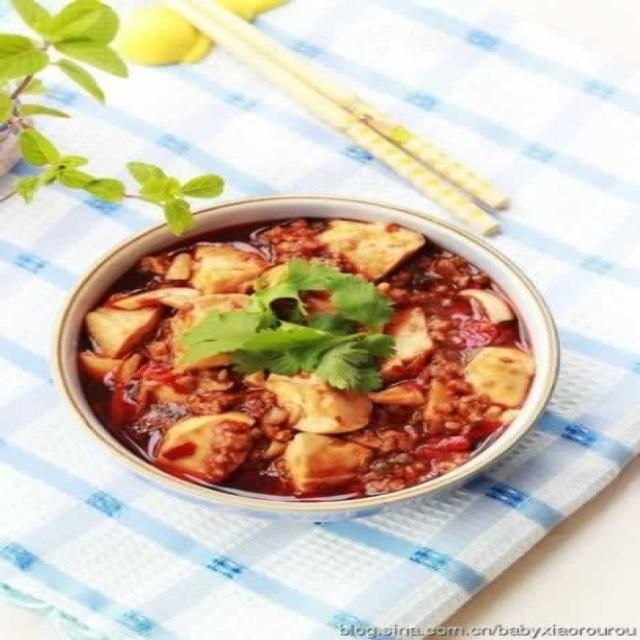豆腐料理: (65, 210, 542, 506)
